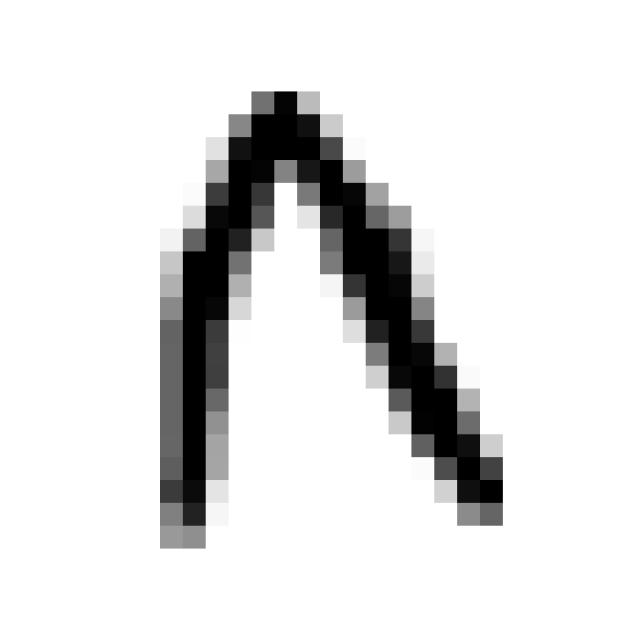8 -eight-: (133, 59, 521, 556)
